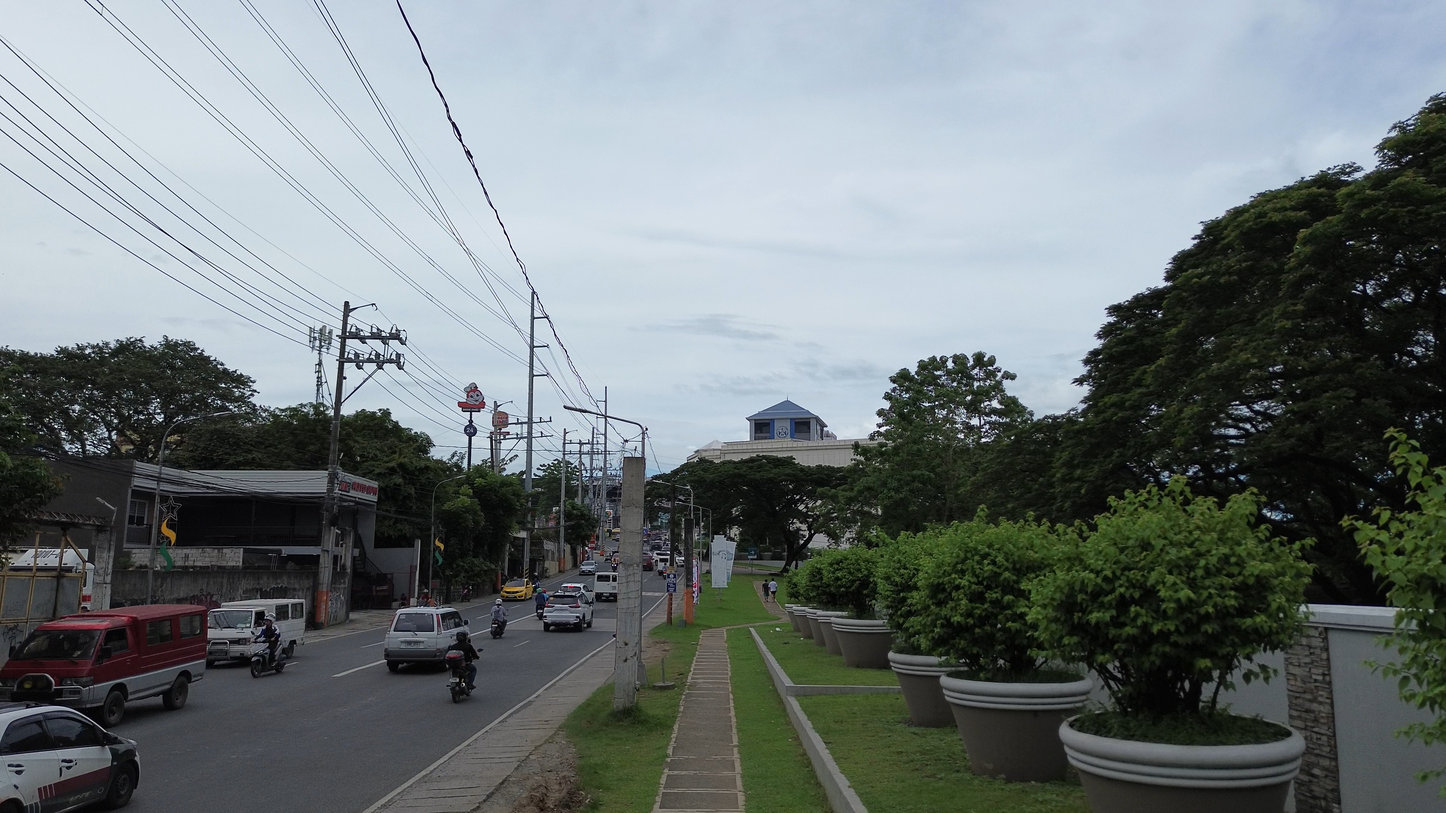car: (579, 559, 597, 574)
motorcycle: (445, 650, 472, 702), (250, 643, 288, 678), (490, 618, 506, 639)
vehicle: (0, 604, 206, 726), (0, 702, 139, 813), (207, 599, 305, 665), (6, 548, 94, 612), (383, 607, 468, 671), (543, 585, 593, 631), (250, 642, 288, 678), (593, 572, 618, 601), (500, 579, 534, 600), (490, 618, 506, 639), (641, 557, 654, 571)
